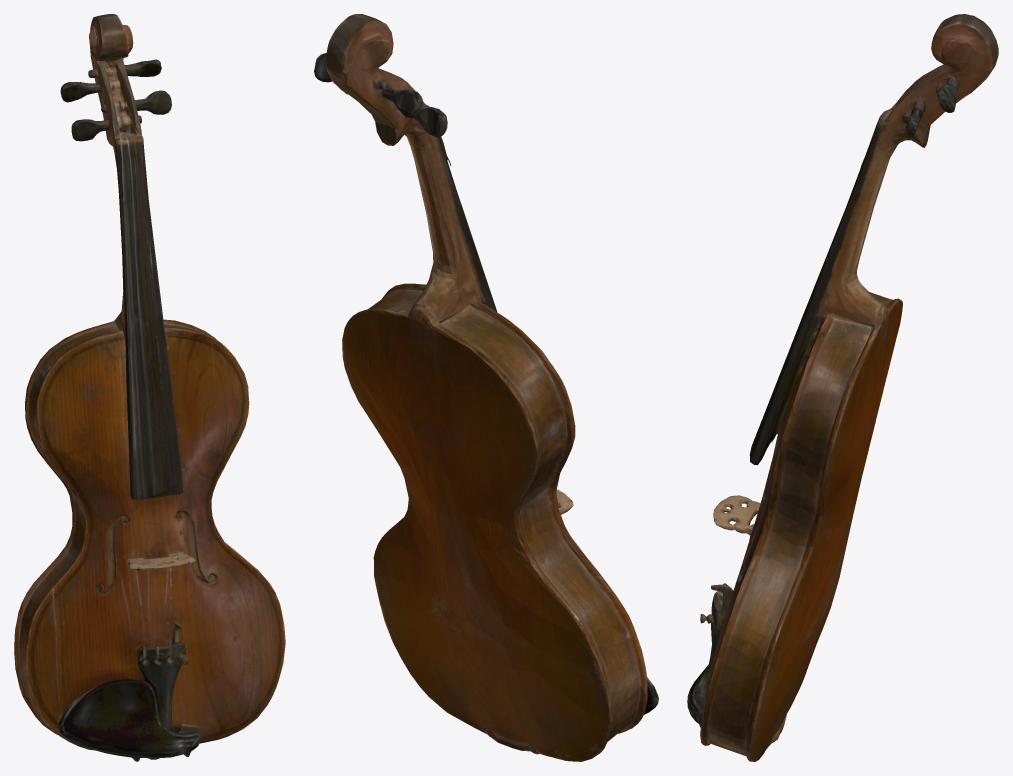
The model's file is 3B900264-B4FC-914C-AB5D-765F08CBAF72_2k.glb.
3 renders of one model, left to right at view 1: azimuth 30°, elevation 25°; view 2: azimuth 150°, elevation 25°; view 3: azimuth 270°, elevation 25°, orthographic. The views are drawn at different scales.
Parts seen in each view (by area): view 1: Geige_6k_2k; view 2: Geige_6k_2k; view 3: Geige_6k_2k.
Boxes of the visible parts, box(x1,y1,x2,y2) form: Geige_6k_2k: box(14, 14, 285, 761); Geige_6k_2k: box(314, 14, 658, 761); Geige_6k_2k: box(687, 14, 998, 761).
Bounding box in the file's own units: 0.1859 × 0.5001 × 0.1888.
1 material, 1 textured.
